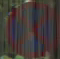No Stopping: (7, 4, 52, 50)
